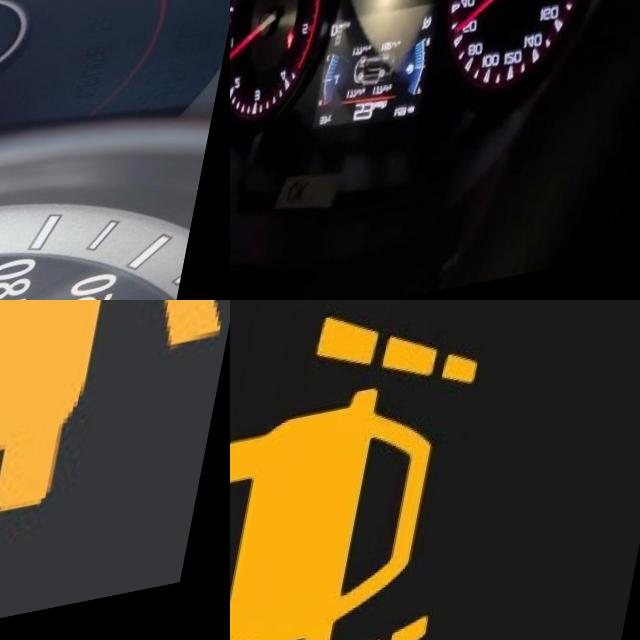Seat Belt: (299, 42, 309, 61)
